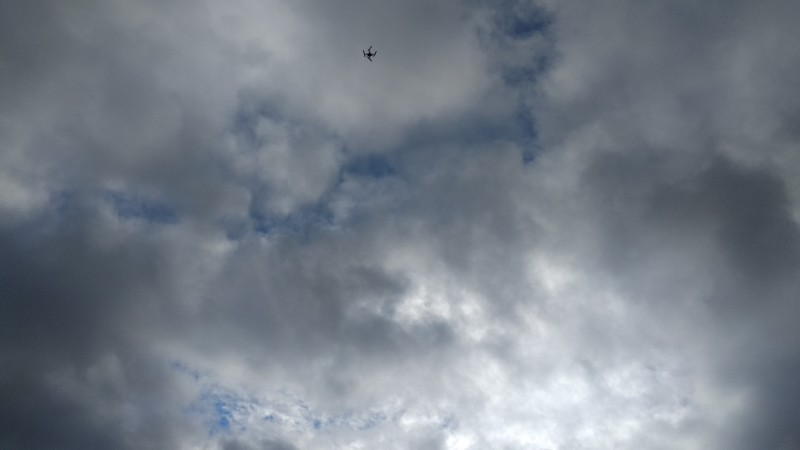drone: (362, 46, 379, 60)
